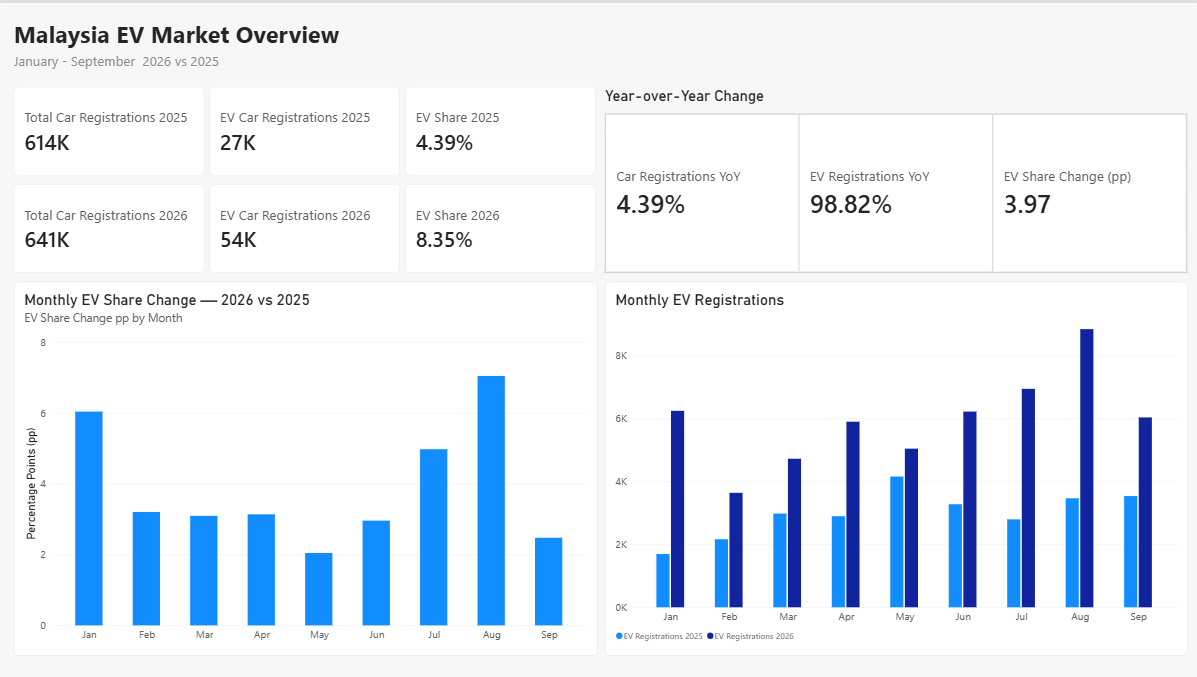

The dashboard page shown, as its layout file describes it:
{"tool":"powerbi","page":{"name":"Market Overview","canvas":[1920,1080],"ordinal":0},"visuals":[{"type":"cardVisual","fields":{"Data":["Registrations.Total Registrations 2026","Registrations.EV Registrations 2026","Registrations.EV Share 2026"]},"box":[22,290,932,142],"z":0},{"type":"cardVisual","title":"Year-over-Year Change","fields":{"Data":["Registrations.Total Registrations YoY","Registrations.EV Registrations YoY","Registrations.EV Share Change pp"]},"box":[968,134,932,298],"z":1000},{"type":"clusteredColumnChart","title":"Monthly EV Share Change — 2026 vs 2025","fields":{"Category":["Calendar.Month"],"Y":["Registrations.EV Share Change pp"]},"box":[22,446,934,598],"z":2000},{"type":"clusteredColumnChart","title":"Monthly EV Registrations","fields":{"Category":["Calendar.Month"],"Y":["Registrations.EV Registrations 2025","Registrations.EV Registrations 2026"]},"box":[968,446,932,598],"z":3000},{"type":"textbox","box":[22,24,652,60],"z":4000},{"type":"textbox","box":[22,77,652,40],"z":5000},{"type":"cardVisual","fields":{"Data":["Registrations.Total Registrations 2025","Registrations.EV Registrations 2025","Registrations.EV Share 2025"]},"box":[22,134,932,142],"z":6000}]}

Visuals, with their boxes in screenshot pixels (x1, y1, x2, y2), scaled from the page's 1920x1080 canvas onto the 1197x677 screenshot:
cardVisual - Registrations.Total Registrations 2026 x Registrations.EV Registrations 2026: (14,182,595,271)
"Year-over-Year Change" cardVisual: (603,84,1185,271)
"Monthly EV Share Change — 2026 vs 2025" clusteredColumnChart: (14,280,596,654)
"Monthly EV Registrations" clusteredColumnChart: (603,280,1185,654)
textbox: (14,15,420,53)
textbox: (14,48,420,73)
cardVisual - Registrations.Total Registrations 2025 x Registrations.EV Registrations 2025: (14,84,595,173)
